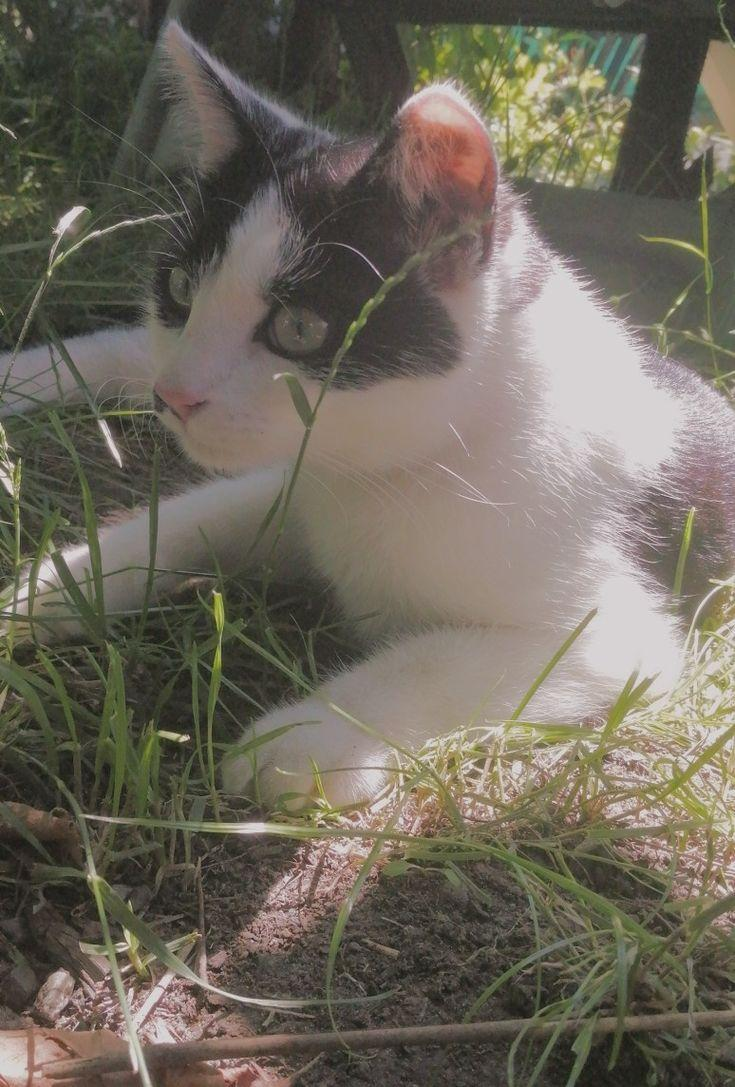kedo: (6, 16, 735, 805)
